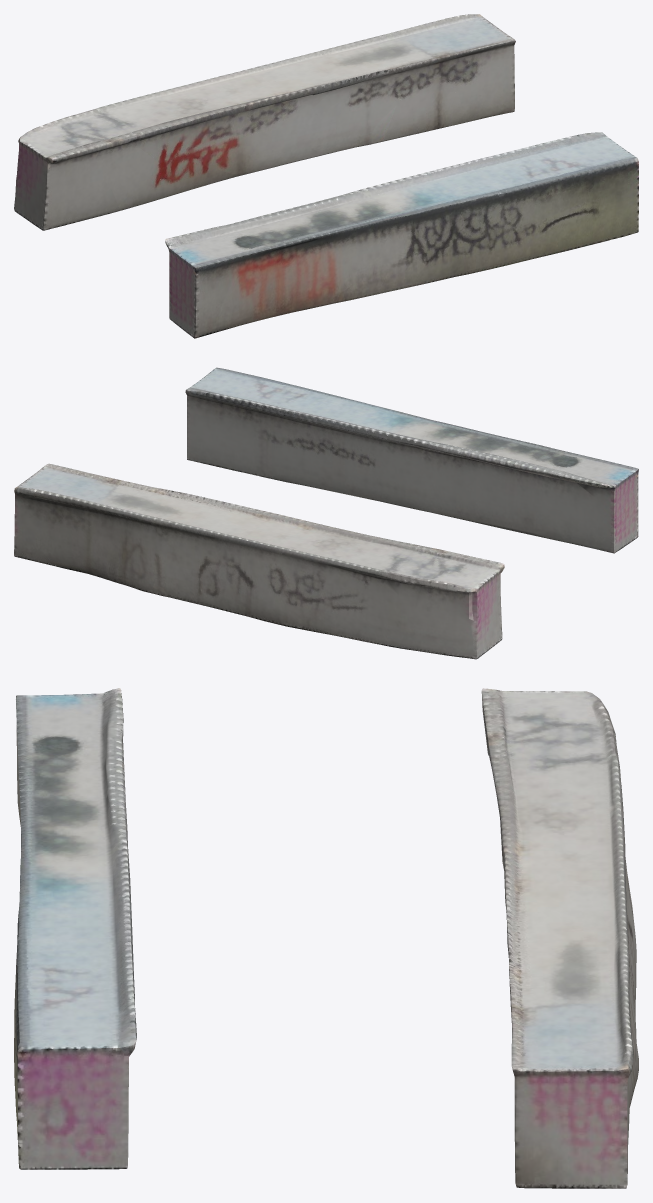
The picture shows the model from 3 angles, top to bottom: view 1: azimuth 30°, elevation 25°; view 2: azimuth 150°, elevation 25°; view 3: azimuth 270°, elevation 25°; orthographic projection. The views are drawn at different scales.
Visible parts, largest first — view 1: skate-stairs; view 2: skate-stairs; view 3: skate-stairs.
Part boxes in pixels (x1,y1,x2,y2): skate-stairs: (14, 14, 638, 338); skate-stairs: (14, 367, 638, 659); skate-stairs: (14, 688, 638, 1188).
Size of the model in its own units: 4.37 by 0.7004 by 3.03.
Materials: 1 (1 with a texture image).
